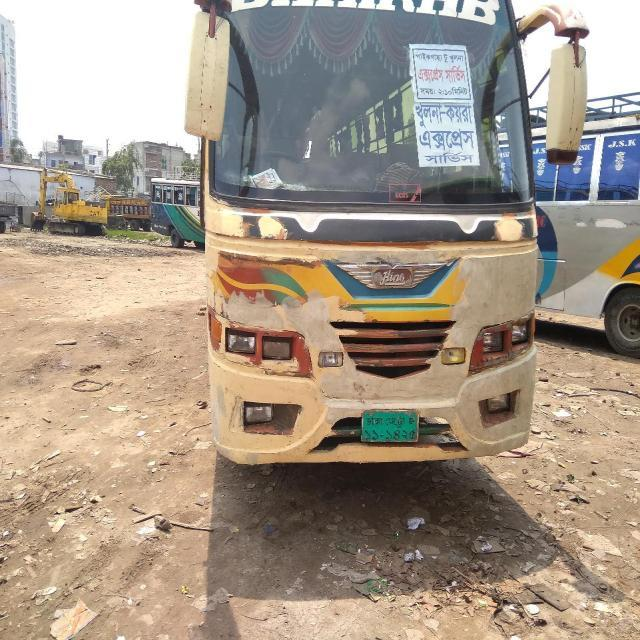numberplate: (359, 409, 419, 443)
